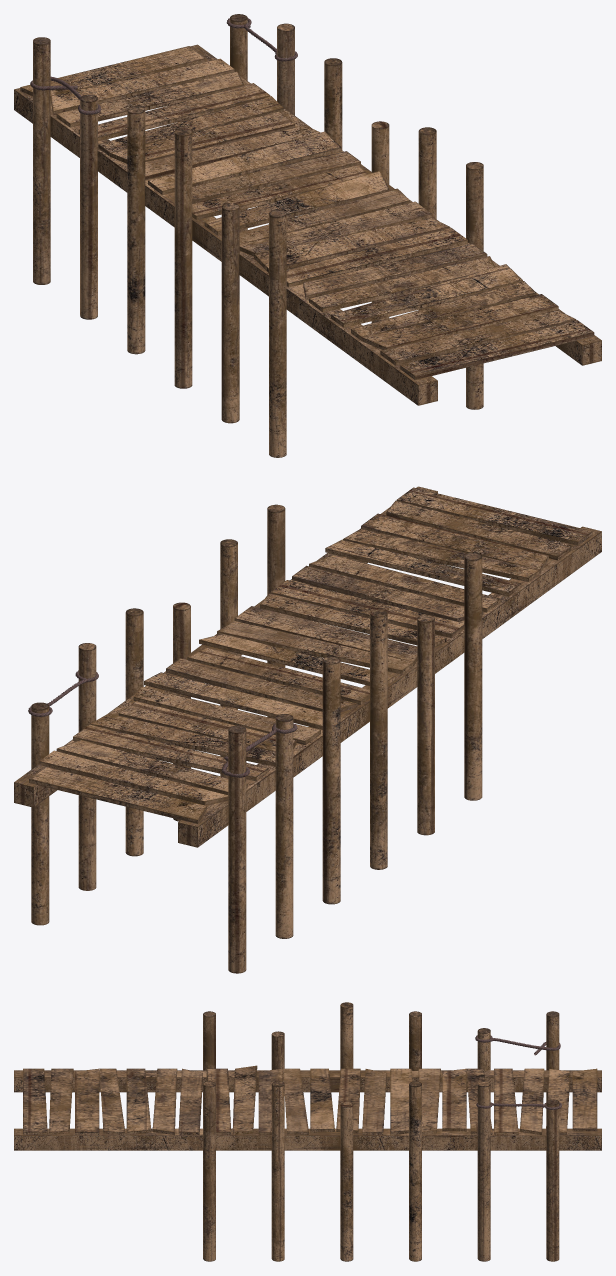
The model's file is dock.fbx.
3 renders of one model, top to bottom at view 1: azimuth 30°, elevation 25°; view 2: azimuth 150°, elevation 25°; view 3: azimuth 270°, elevation 25°, orthographic. The views are drawn at different scales.
Parts seen in each view (by area): view 1: defaultMaterial.011, defaultMaterial.013, defaultMaterial.015, defaultMaterial.010, defaultMaterial.008, defaultMaterial.012, defaultMaterial.009, defaultMaterial.014, defaultMaterial.007, defaultMaterial.004, defaultMaterial.005, defaultMaterial.006 (+2 smaller); view 2: defaultMaterial.011, defaultMaterial.015, defaultMaterial.013, defaultMaterial.008, defaultMaterial.009, defaultMaterial.010, defaultMaterial.014, defaultMaterial.012, defaultMaterial.002, defaultMaterial.003, defaultMaterial.004, defaultMaterial.007 (+2 smaller); view 3: defaultMaterial.015, defaultMaterial.011, defaultMaterial.010, defaultMaterial.012, defaultMaterial.013, defaultMaterial.009, defaultMaterial.008, defaultMaterial.014, defaultMaterial.005, defaultMaterial.004, defaultMaterial.007, defaultMaterial.006 (+3 smaller).
Part boxes in pixels (x1=…): defaultMaterial.011: x1=20, y1=46, x2=558, y2=349; defaultMaterial.013: x1=148, y1=131, x2=594, y2=379; defaultMaterial.015: x1=14, y1=44, x2=601, y2=405; defaultMaterial.010: x1=78, y1=83, x2=522, y2=327; defaultMaterial.008: x1=50, y1=58, x2=487, y2=299; defaultMaterial.012: x1=145, y1=125, x2=576, y2=365; defaultMaterial.009: x1=56, y1=71, x2=494, y2=312; defaultMaterial.014: x1=98, y1=96, x2=536, y2=340; defaultMaterial.007: x1=269, y1=162, x2=483, y2=457; defaultMaterial.004: x1=127, y1=58, x2=342, y2=354; defaultMaterial.005: x1=174, y1=121, x2=389, y2=388; defaultMaterial.006: x1=221, y1=127, x2=436, y2=423; defaultMaterial.011: x1=29, y1=513, x2=548, y2=823; defaultMaterial.015: x1=14, y1=486, x2=601, y2=847; defaultMaterial.013: x1=144, y1=487, x2=592, y2=729; defaultMaterial.008: x1=39, y1=565, x2=483, y2=805; defaultMaterial.009: x1=56, y1=555, x2=500, y2=794; defaultMaterial.010: x1=73, y1=539, x2=521, y2=781; defaultMaterial.014: x1=90, y1=528, x2=539, y2=766; defaultMaterial.012: x1=133, y1=500, x2=573, y2=745; defaultMaterial.002: x1=31, y1=702, x2=246, y2=973; defaultMaterial.003: x1=78, y1=643, x2=293, y2=938; defaultMaterial.004: x1=125, y1=608, x2=340, y2=904; defaultMaterial.007: x1=267, y1=504, x2=482, y2=800; defaultMaterial.015: x1=14, y1=1070, x2=601, y2=1150; defaultMaterial.011: x1=75, y1=1068, x2=597, y2=1134; defaultMaterial.010: x1=126, y1=1068, x2=518, y2=1134; defaultMaterial.012: x1=49, y1=1065, x2=440, y2=1134; defaultMaterial.013: x1=23, y1=1068, x2=412, y2=1134; defaultMaterial.009: x1=152, y1=1068, x2=544, y2=1134; defaultMaterial.008: x1=178, y1=1068, x2=570, y2=1134; defaultMaterial.014: x1=99, y1=1068, x2=492, y2=1134; defaultMaterial.005: x1=340, y1=1002, x2=353, y2=1261; defaultMaterial.004: x1=409, y1=1011, x2=421, y2=1261; defaultMaterial.007: x1=203, y1=1011, x2=215, y2=1261; defaultMaterial.006: x1=271, y1=1031, x2=284, y2=1261.
Size of the model in its own units: 804 by 890 by 2578.
Materials: 1 (1 with a texture image).
